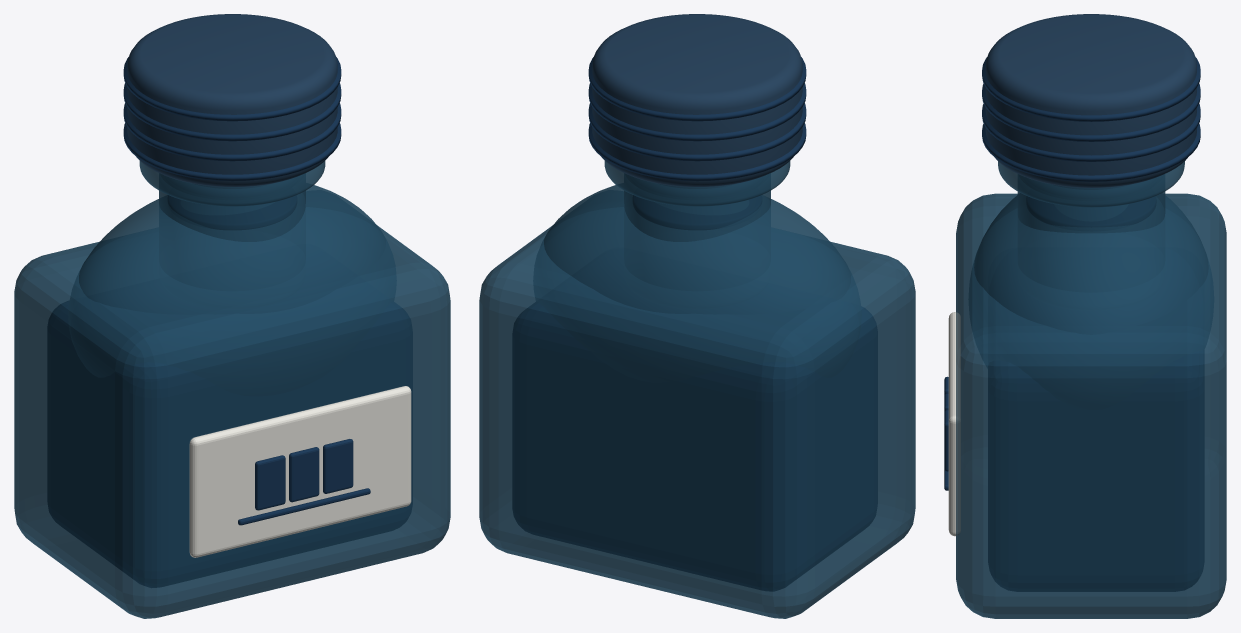
The model's file is socra-inkwell.glb.
3 views of the same model, side by side, from view 1: azimuth 30°, elevation 25°; view 2: azimuth 150°, elevation 25°; view 3: azimuth 270°, elevation 25° (orthographic).
Parts seen in each view (by area): view 1: BottleBody, BottleShoulder, InkVolume, Cap, Label, Neck, MouthRing, InkSurface, CapBand04, CapBand03, CapBand02, CapBand01 (+4 smaller); view 2: BottleBody, InkVolume, BottleShoulder, Cap, Neck, MouthRing, InkSurface, CapBand04, CapBand03, CapBand02, CapBand01; view 3: BottleBody, InkVolume, BottleShoulder, Cap, Neck, MouthRing, Label, CapBand04, CapBand02, CapBand01, CapBand03, InkSurface.
Part boxes in pixels (x1=…): BottleBody: x1=14, y1=207, x2=450, y2=618; BottleShoulder: x1=68, y1=185, x2=396, y2=395; InkVolume: x1=47, y1=301, x2=412, y2=587; Cap: x1=127, y1=14, x2=337, y2=186; Label: x1=189, y1=386, x2=411, y2=557; Neck: x1=159, y1=174, x2=305, y2=290; MouthRing: x1=139, y1=161, x2=325, y2=206; InkSurface: x1=168, y1=195, x2=296, y2=229; CapBand04: x1=123, y1=57, x2=341, y2=121; CapBand03: x1=123, y1=83, x2=341, y2=141; CapBand02: x1=123, y1=103, x2=341, y2=161; CapBand01: x1=123, y1=123, x2=341, y2=181; BottleBody: x1=479, y1=207, x2=915, y2=618; InkVolume: x1=512, y1=301, x2=877, y2=591; BottleShoulder: x1=533, y1=185, x2=861, y2=382; Cap: x1=592, y1=14, x2=802, y2=186; Neck: x1=624, y1=174, x2=770, y2=290; MouthRing: x1=604, y1=161, x2=790, y2=206; InkSurface: x1=633, y1=195, x2=761, y2=229; CapBand04: x1=588, y1=57, x2=806, y2=121; CapBand03: x1=588, y1=83, x2=806, y2=141; CapBand02: x1=588, y1=103, x2=806, y2=161; CapBand01: x1=588, y1=123, x2=806, y2=181; BottleBody: x1=956, y1=193, x2=1226, y2=618; InkVolume: x1=988, y1=350, x2=1204, y2=591; BottleShoulder: x1=968, y1=195, x2=1213, y2=409; Cap: x1=985, y1=14, x2=1196, y2=187; Neck: x1=1017, y1=175, x2=1165, y2=292; MouthRing: x1=998, y1=161, x2=1184, y2=207; Label: x1=948, y1=312, x2=960, y2=536; CapBand04: x1=982, y1=57, x2=1200, y2=121; CapBand02: x1=982, y1=103, x2=1200, y2=161; CapBand01: x1=982, y1=123, x2=1200, y2=181; CapBand03: x1=982, y1=83, x2=1200, y2=141; InkSurface: x1=1026, y1=196, x2=1156, y2=227.
Bounding box in the file's own units: 1.56 × 2.23 × 1.15.
